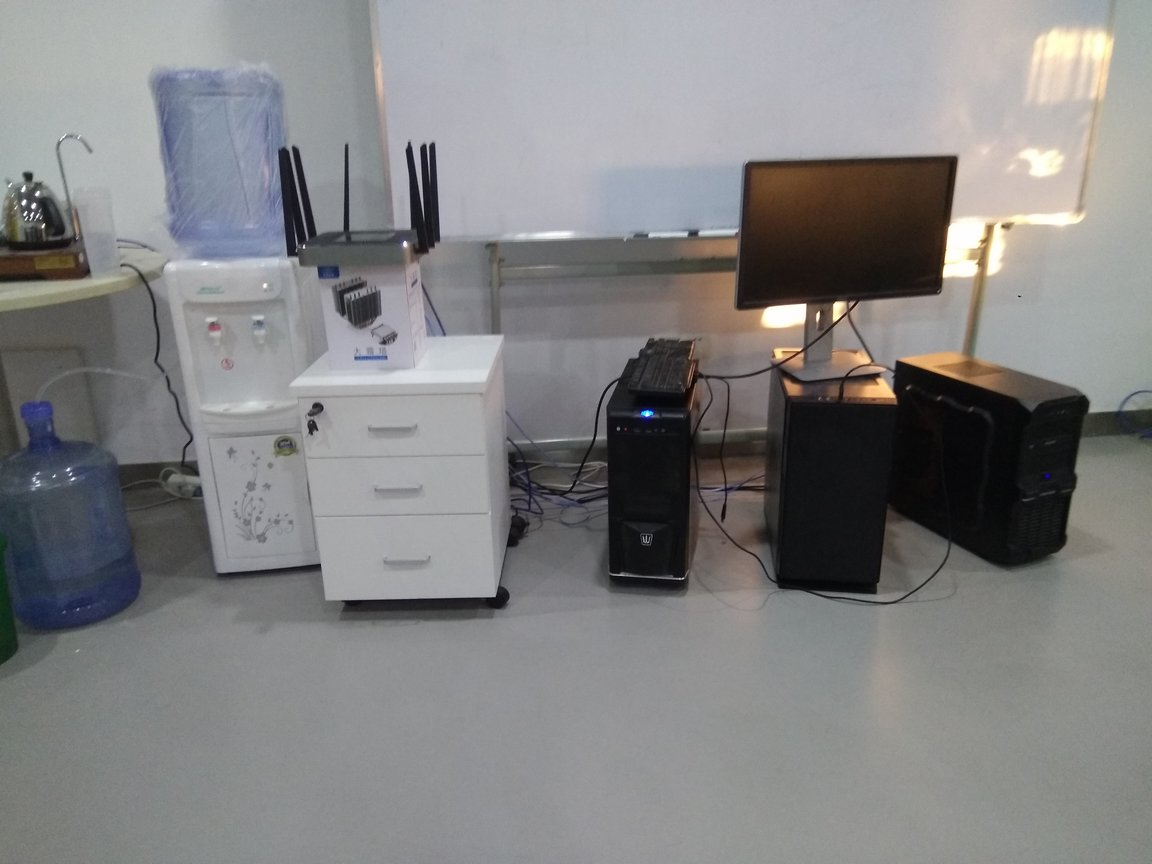computer: (895, 347, 1076, 572), (762, 346, 888, 607), (600, 353, 702, 597)
drawer chest: (303, 328, 530, 612)
monitor: (729, 152, 958, 382)
scuttlebutt: (1, 402, 142, 632), (143, 63, 301, 256)
water dispenser: (166, 251, 337, 578)
